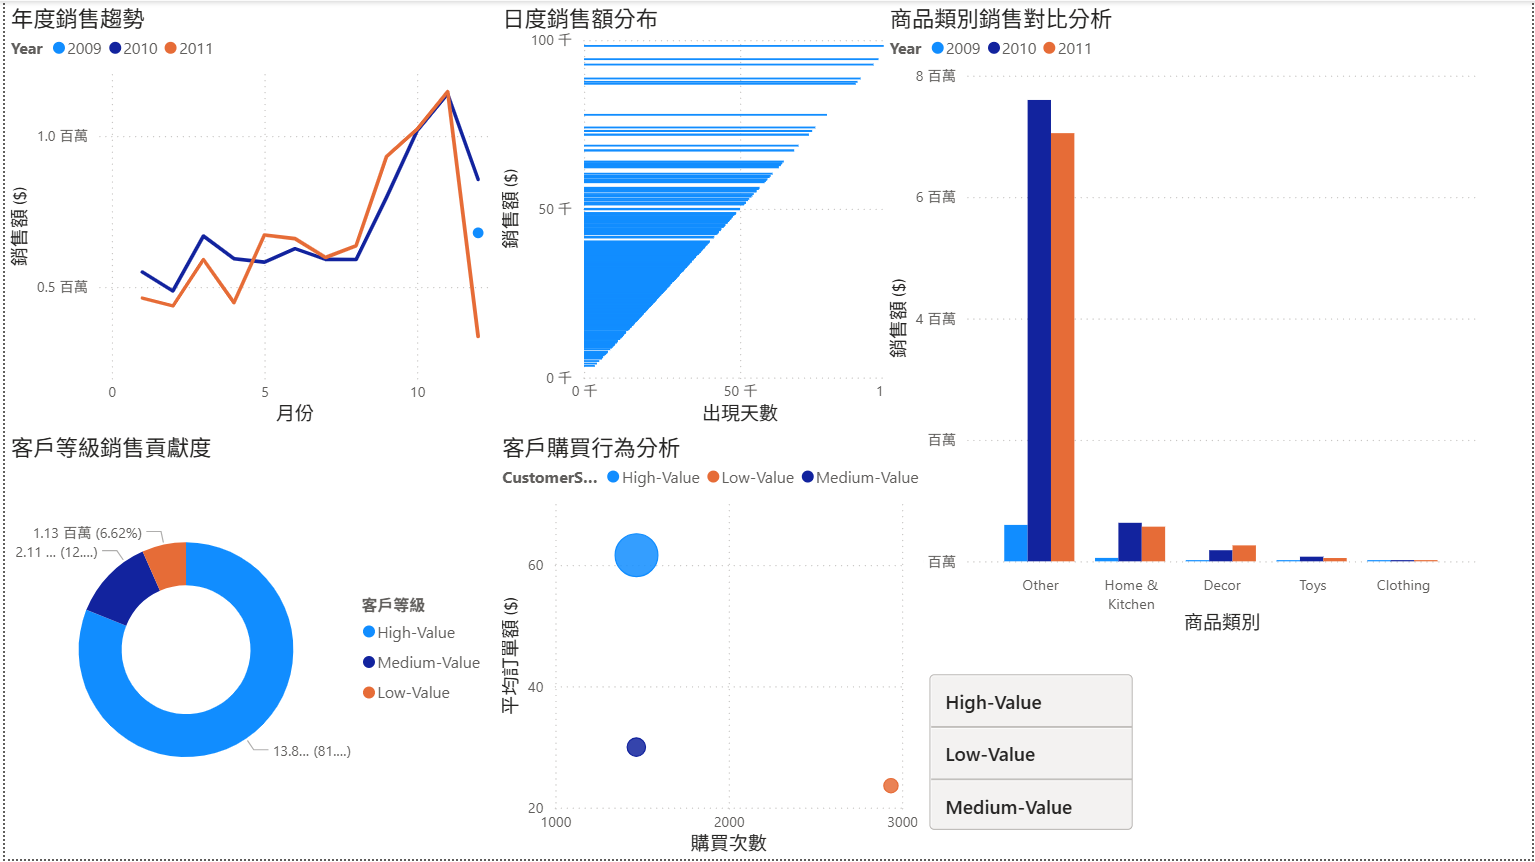

The dashboard page shown, as its layout file describes it:
{"tool":"powerbi","page":{"name":"第 1 頁","canvas":[1280,720],"ordinal":0},"visuals":[{"type":"lineChart","title":"年度銷售趨勢","fields":{"Category":["daily_sales.Month"],"Y":["Sum(daily_sales.TotalSales)"],"Series":["daily_sales.Year"]},"box":[0,0,412,359.6],"z":0},{"type":"clusteredBarChart","title":"日度銷售額分布","fields":{"Category":["daily_sales.TotalSales"],"Y":["Sum(daily_sales.TotalSales)"]},"box":[412,0,358.5,359.6],"z":1000},{"type":"clusteredColumnChart","title":"商品類別銷售對比分析","fields":{"Category":["product_category.Category"],"Y":["Sum(product_category.Sales)"],"Series":["product_category.Year"]},"box":[777.9,0,502.2,534.7],"z":2000},{"type":"donutChart","title":"客戶等級銷售貢獻度","fields":{"Category":["customer_metrics.CustomerSegment"],"Y":["Sum(customer_metrics.TotalSpent)"]},"box":[0,359.6,413,350.1],"z":3000},{"type":"scatterChart","title":"客戶購買行為分析","fields":{"X":["CountNonNull(customer_metrics.TransactionCount)"],"Y":["Avg(customer_metrics.AvgTransactionValue)"],"Size":["Sum(customer_metrics.TotalSpent)"],"Series":["customer_metrics.CustomerSegment"]},"box":[412,359.6,358.5,360.6],"z":4000},{"type":"cardVisual","fields":{"Rows":["customer_metrics.CustomerSegment"]},"box":[770.5,539.9,180.3,180.3],"z":5000}]}

Visuals, with their boxes in screenshot pixels (x1, y1, x2, y2), scaled from the page's 1280x720 canvas onto the 1535x862 screenshot:
"年度銷售趨勢" lineChart: x1=0, y1=0, x2=494, y2=431
"日度銷售額分布" clusteredBarChart: x1=494, y1=0, x2=924, y2=431
"商品類別銷售對比分析" clusteredColumnChart: x1=933, y1=0, x2=1534, y2=640
"客戶等級銷售貢獻度" donutChart: x1=0, y1=431, x2=495, y2=850
"客戶購買行為分析" scatterChart: x1=494, y1=431, x2=924, y2=861
cardVisual - customer_metrics.CustomerSegment: x1=924, y1=646, x2=1140, y2=861
